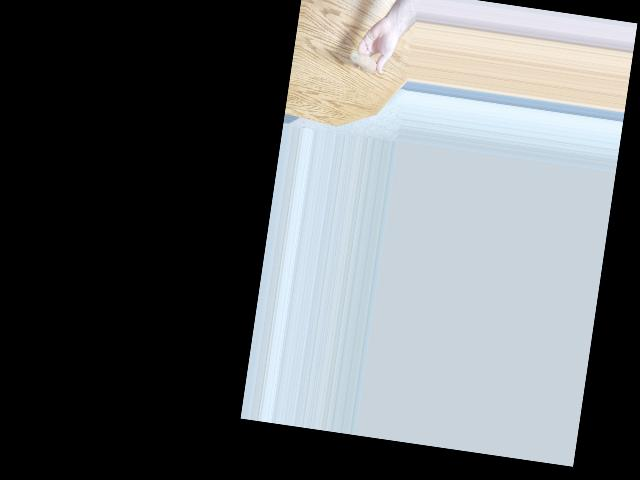sweet_potato: (348, 48, 380, 71)
